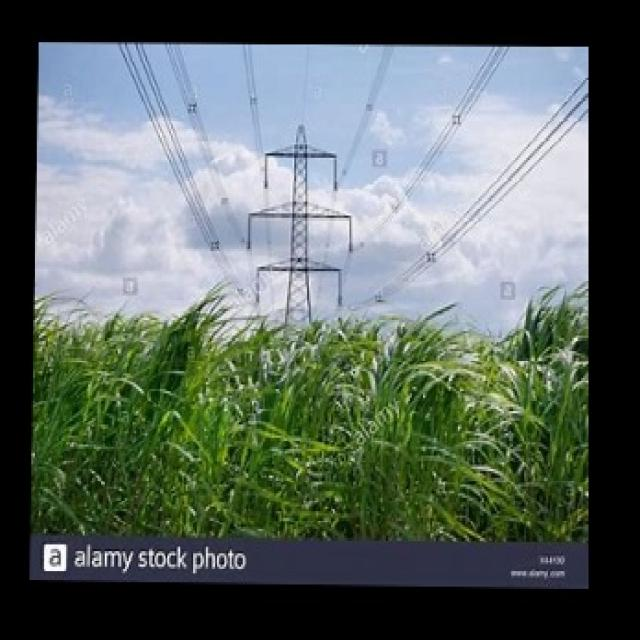utility poles: (251, 94, 355, 535)
